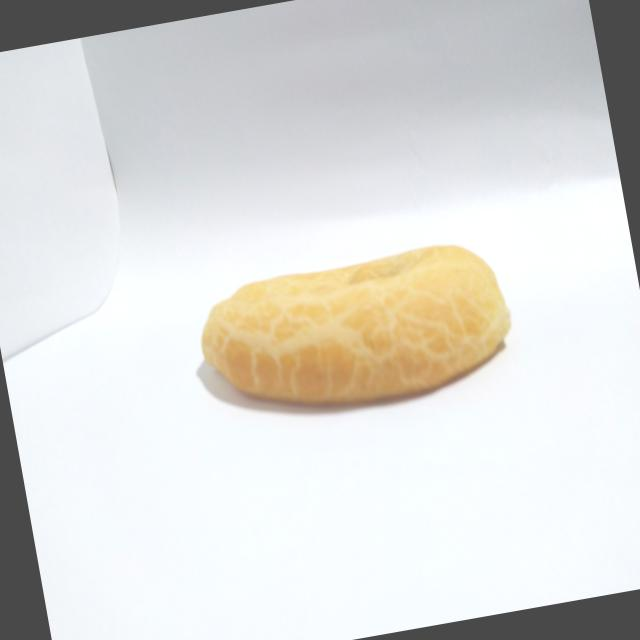Chipa: (184, 216, 530, 446)
